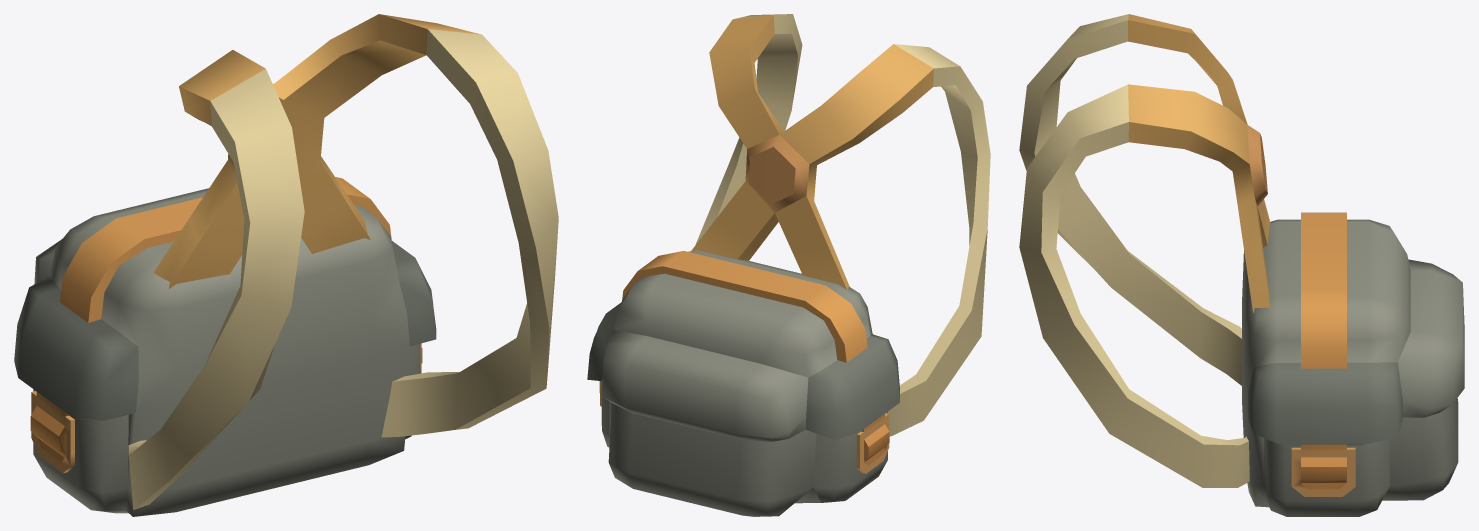
The model's file is Bag_8.fbx.
3 views of the same model, side by side, from view 1: azimuth 30°, elevation 25°; view 2: azimuth 150°, elevation 25°; view 3: azimuth 270°, elevation 25° (orthographic). The views are drawn at different scales.
Visible parts, largest first — view 1: Bag_8; view 2: Bag_8; view 3: Bag_8.
Boxes of the visible parts, box(x1,y1,x2,y2) form: Bag_8: box(14, 14, 558, 516); Bag_8: box(587, 14, 990, 516); Bag_8: box(1019, 14, 1464, 516).
Bounding box in the file's own units: 45.52 × 58.9 × 57.33.
